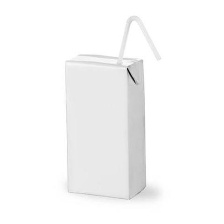carton: (60, 53, 149, 202)
drinking_straw: (108, 10, 165, 68)
